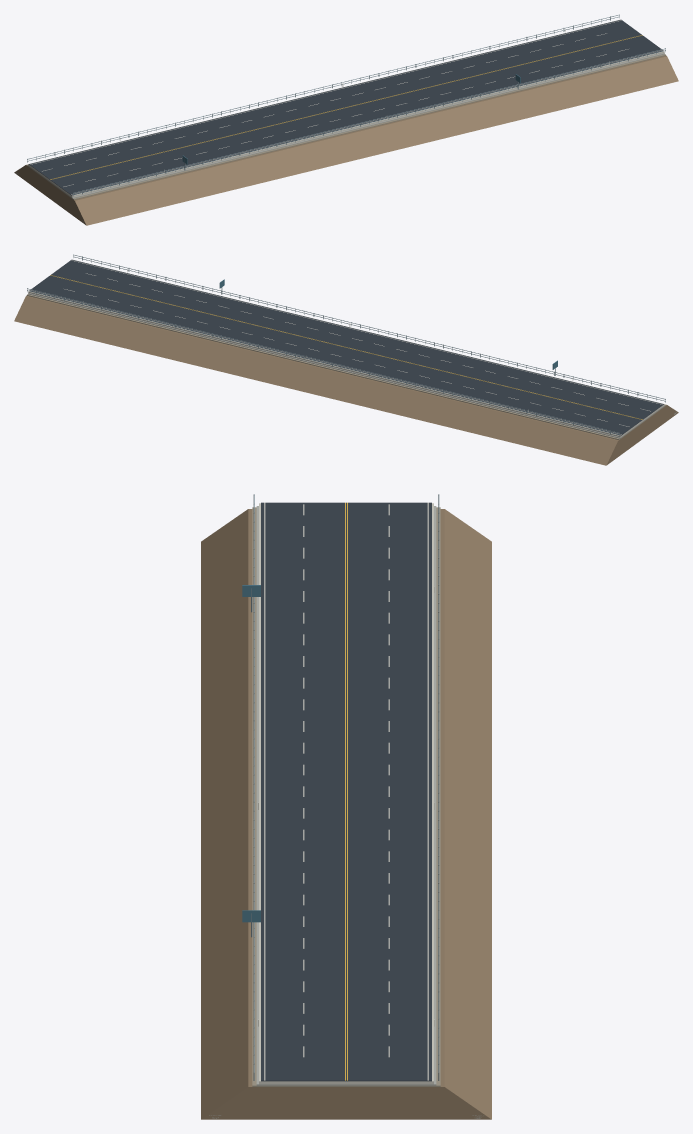
Rendered from road.glb.
The picture shows the model from 3 angles, top to bottom: view 1: azimuth 30°, elevation 25°; view 2: azimuth 150°, elevation 25°; view 3: azimuth 270°, elevation 25°; orthographic projection. The views are drawn at different scales.
Parts seen in each view (by area): view 1: 沥青铺装 / 80 mm, 填方路基, 连续防护横梁 (×4), 水泥稳定碎石基层, 级配碎石垫层, 水泥稳定碎石底基层, 道路边缘实线 (×2), 中心双黄线 (×2); view 2: 沥青铺装 / 80 mm, 填方路基, 连续防护横梁 (×4), 水泥稳定碎石基层, 级配碎石垫层, 水泥稳定碎石底基层, 道路边缘实线 (×2), 中心双黄线 (×2); view 3: 沥青铺装 / 80 mm, 填方路基, 级配碎石垫层, 水泥稳定碎石底基层, 水泥稳定碎石基层, 道路边缘实线 (×2), 连续防护横梁 (×2).
Boxes of the visible parts, <box> form: 沥青铺装 / 80 mm: <box>29,19,663,195</box>; 填方路基: <box>14,55,678,225</box>; 连续防护横梁 (×4): <box>27,14,665,194</box>; 水泥稳定碎石基层: <box>28,19,664,197</box>; 级配碎石垫层: <box>26,54,666,199</box>; 水泥稳定碎石底基层: <box>28,53,664,198</box>; 道路边缘实线 (×2): <box>30,20,662,194</box>; 中心双黄线 (×2): <box>50,35,642,179</box>; 沥青铺装 / 80 mm: <box>29,259,663,435</box>; 填方路基: <box>14,295,678,465</box>; 连续防护横梁 (×4): <box>27,254,665,434</box>; 水泥稳定碎石基层: <box>28,259,664,437</box>; 级配碎石垫层: <box>26,294,666,439</box>; 水泥稳定碎石底基层: <box>28,293,664,438</box>; 道路边缘实线 (×2): <box>30,260,662,434</box>; 中心双黄线 (×2): <box>50,275,642,419</box>; 沥青铺装 / 80 mm: <box>261,502,431,1081</box>; 填方路基: <box>201,509,491,1119</box>; 级配碎石垫层: <box>252,507,440,1086</box>; 水泥稳定碎石底基层: <box>256,506,436,1085</box>; 水泥稳定碎石基层: <box>259,503,433,1084</box>; 道路边缘实线 (×2): <box>264,502,428,1080</box>; 连续防护横梁 (×2): <box>253,495,439,1072</box>.
Size of the model in its own units: 160 by 8.35 by 34.
